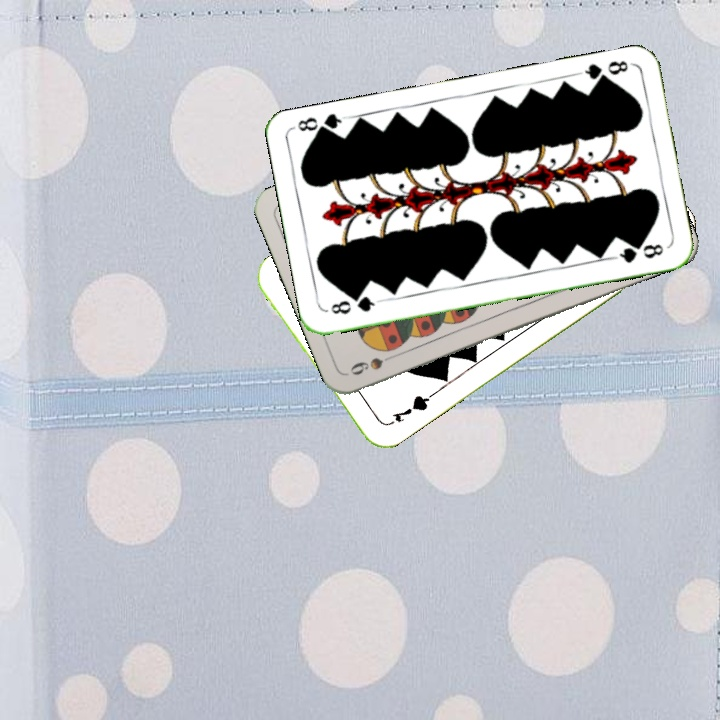G7: (389, 390, 434, 425)
G8: (575, 56, 633, 87), (326, 292, 383, 317)
S9: (345, 348, 404, 378)
